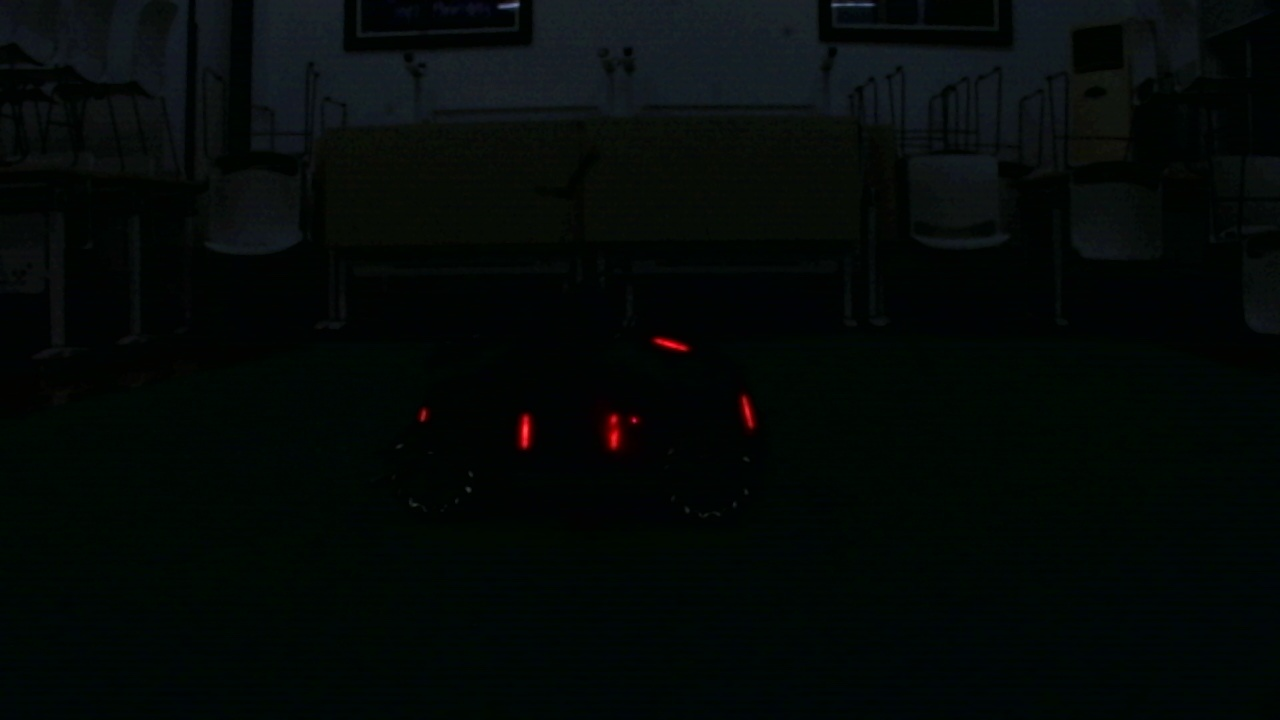lamp: (603, 412, 624, 455), (516, 411, 532, 451), (737, 395, 755, 426)
pair1: (520, 414, 624, 451)
